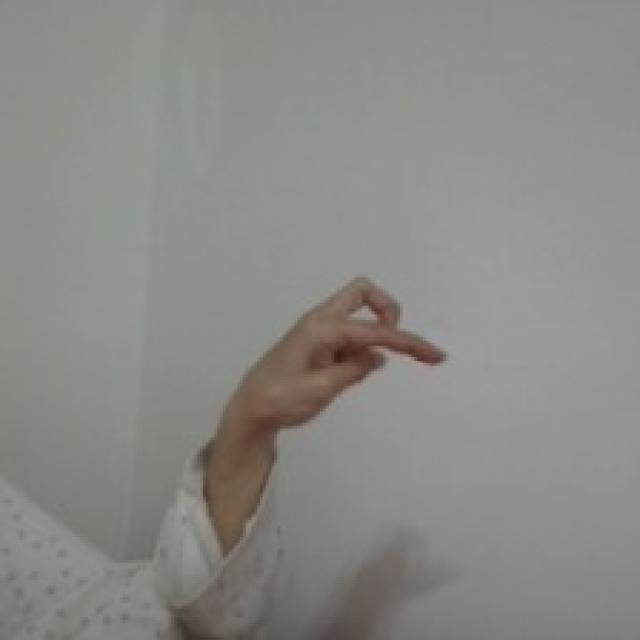sunday: (245, 269, 456, 429)
